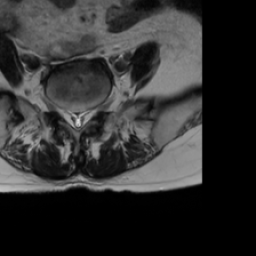CCS_normal: (73, 101, 82, 138)
LFS_normal: (91, 93, 99, 125)
LLS_normal: (82, 101, 91, 134)
RFS_normal: (57, 95, 65, 126)
RLS_normal: (65, 98, 73, 131)
